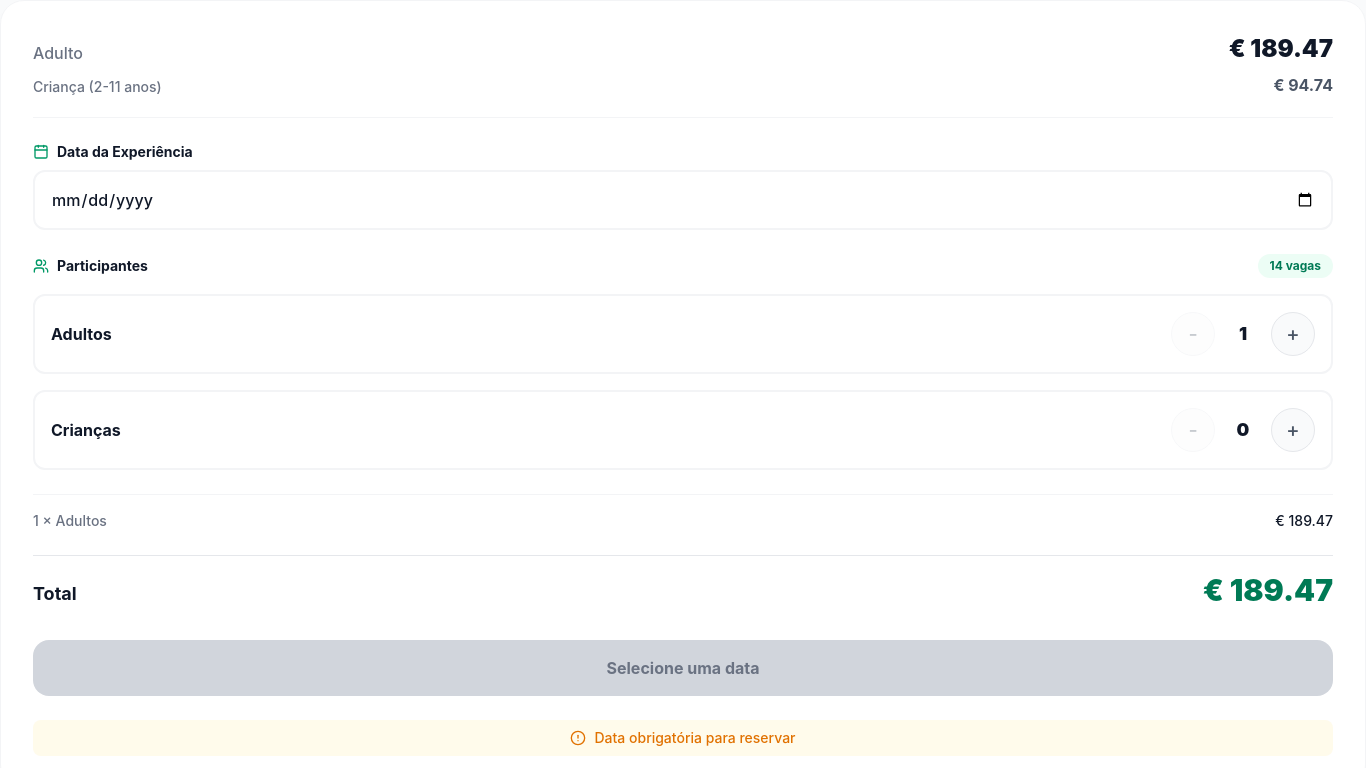
BookingWidget Component › disables reserve button when no date is selected
expect the button with test id "btn-reserve" is disabled: met, box [33,640,1333,696]
Select date
In the date field with test id "date-input": (683, 200) [33,170,1333,230], type "2026-05-25"
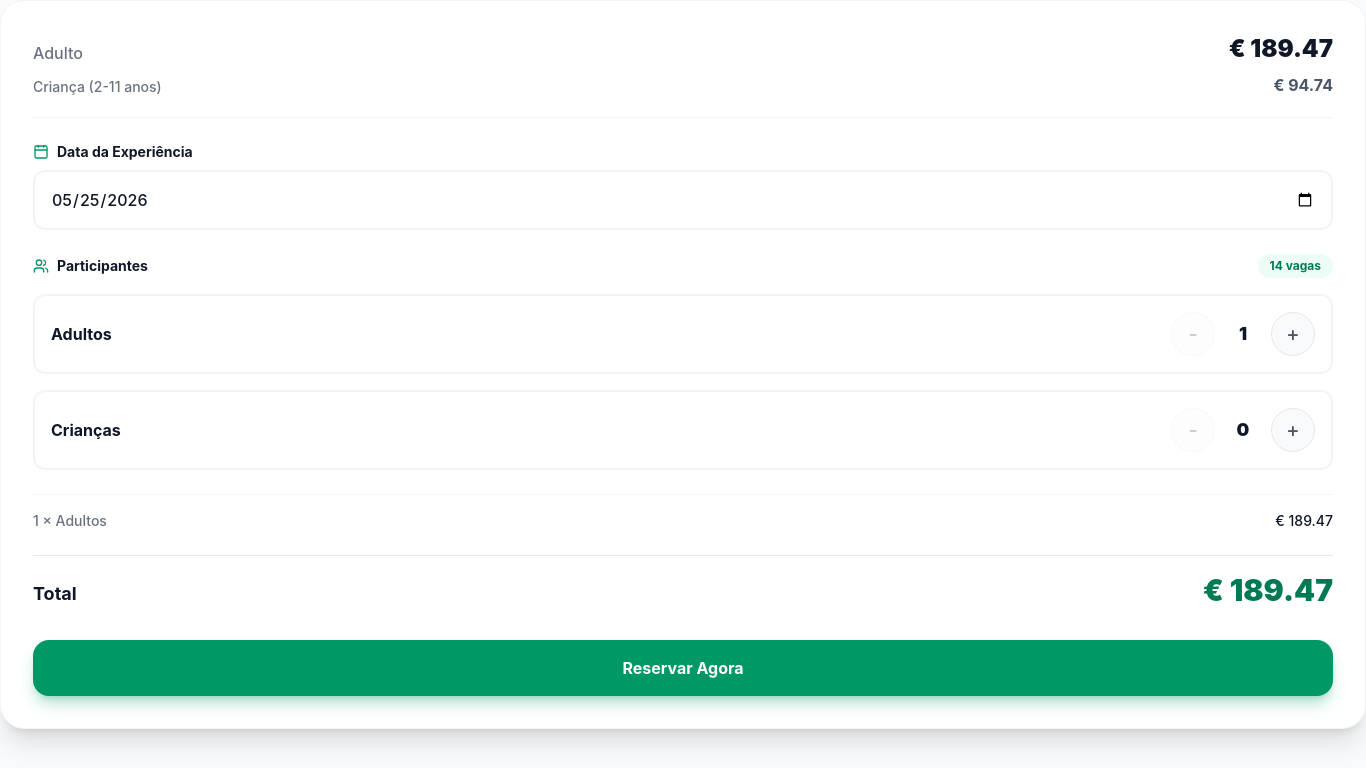
expect the button with test id "btn-reserve" is enabled: met, box [33,640,1333,696]
